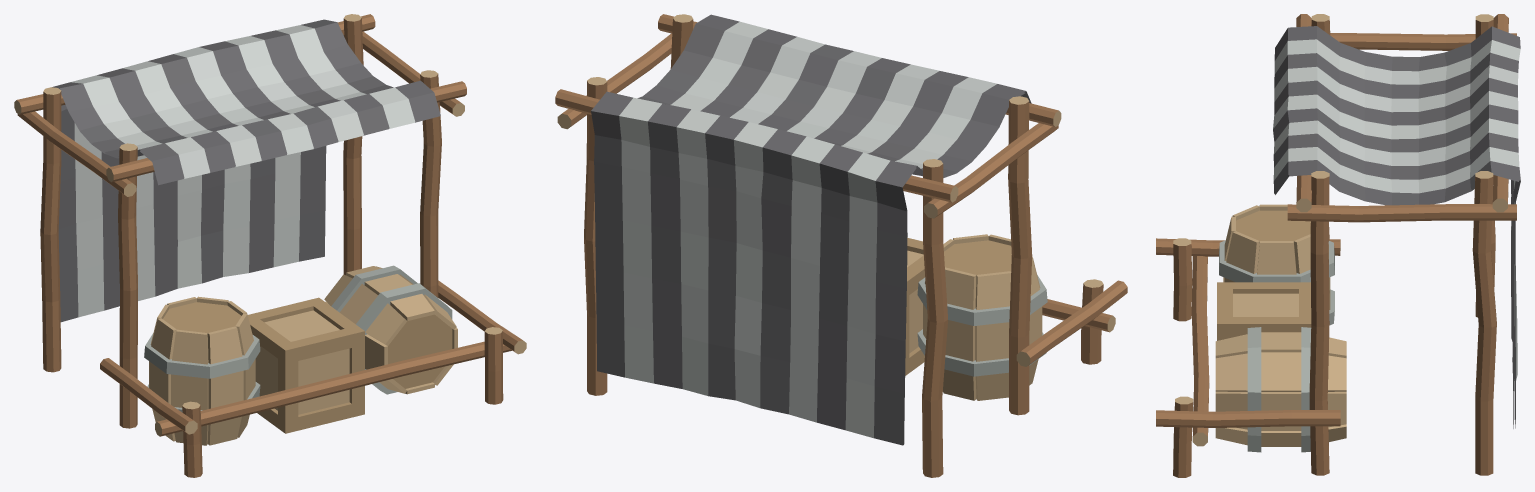
Rendered from Stall03.fbx.
3 views of the same model, side by side, from view 1: azimuth 30°, elevation 25°; view 2: azimuth 150°, elevation 25°; view 3: azimuth 270°, elevation 25° (orthographic). The views are drawn at different scales.
Parts seen in each view (by area): view 1: Stall03; view 2: Stall03; view 3: Stall03.
Part boxes in pixels (x1,y1,x2,y2): Stall03: (14, 14, 526, 477); Stall03: (555, 14, 1127, 477); Stall03: (1156, 14, 1520, 477).
Size of the model in its own units: 4 by 3.02 by 3.34.
